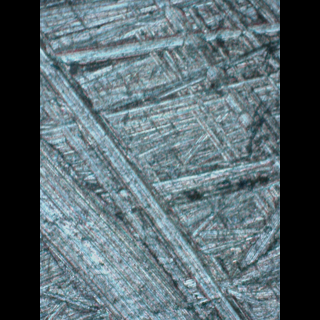d: (40, 46, 221, 320), (132, 5, 279, 211)
